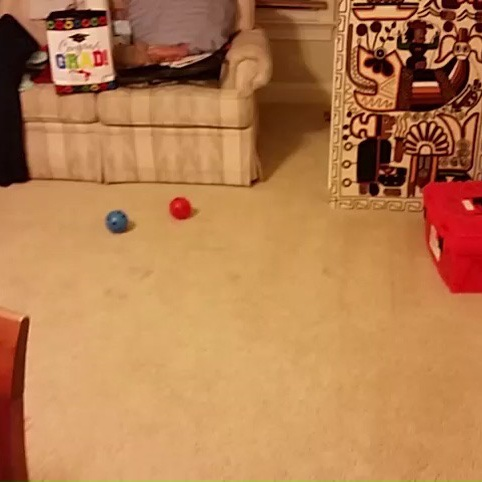ball: (167, 194, 194, 221), (104, 207, 130, 234)
